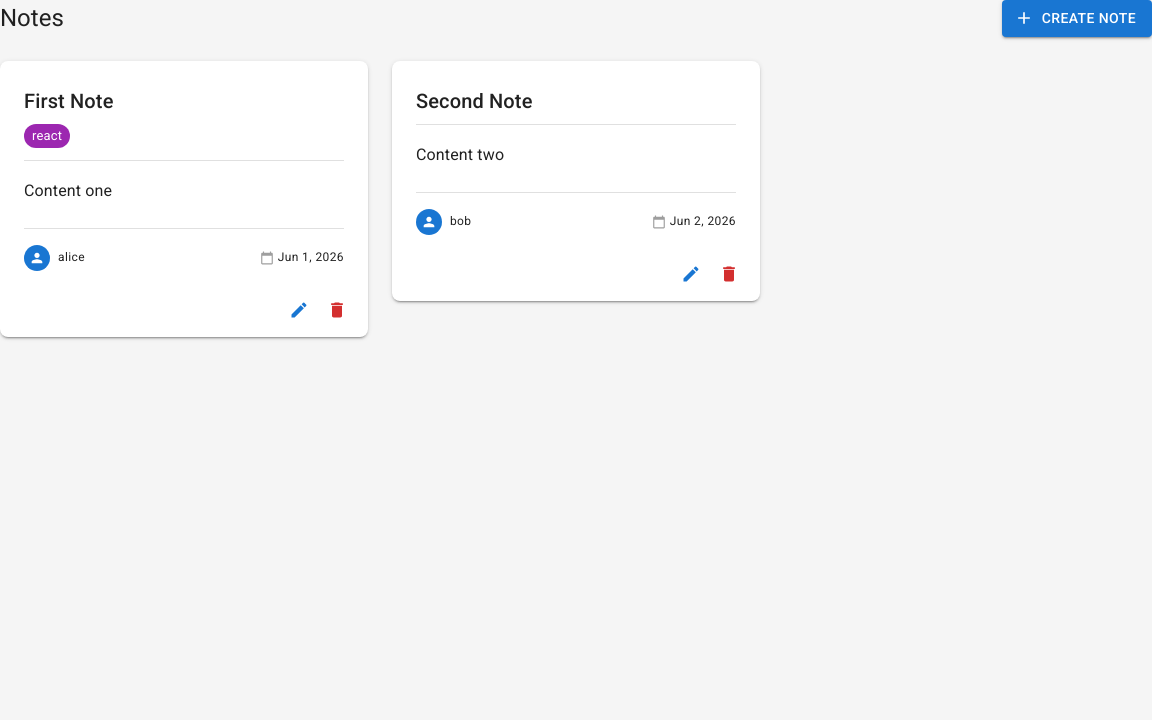
Test case: NoteCardGrid › opens the delete confirm dialog
The image size is (1152, 720).
Expected: the heading "First Note" is shown, x1=24 y1=88 x2=114 y2=112
Click the button named "Delete" below "alice".
click(337, 310)  # box x1=322 y1=295 x2=352 y2=325
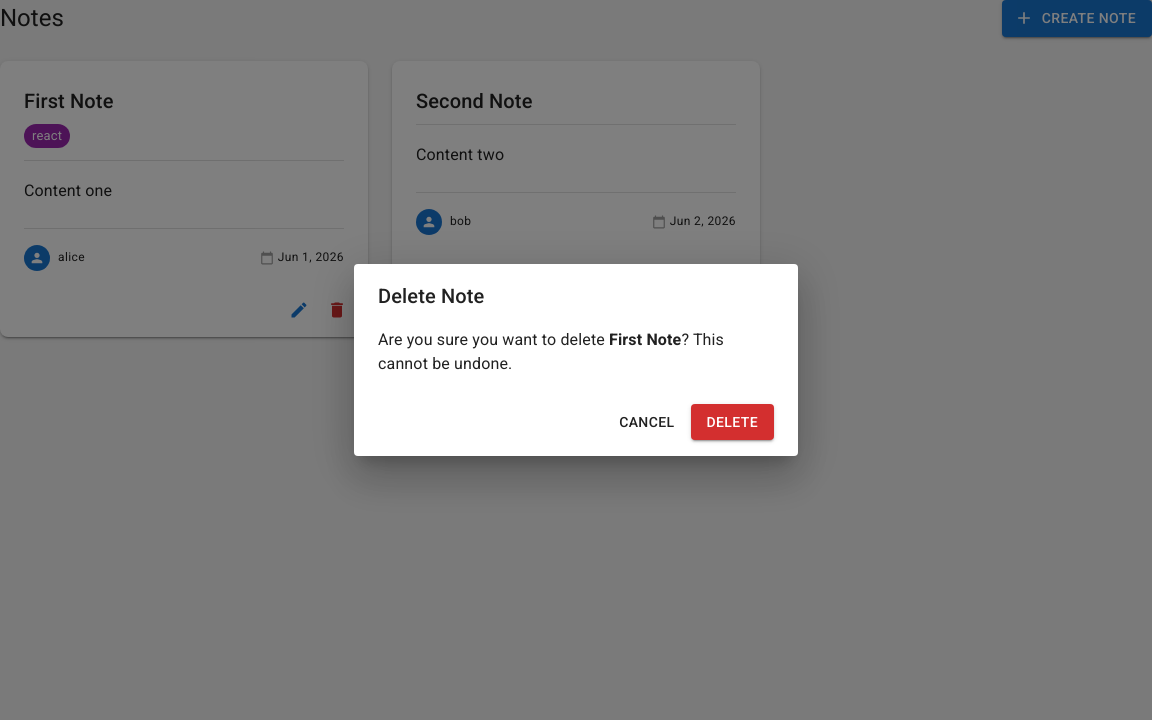
Expected: the text "Are you sure" is shown, x1=378 y1=330 x2=609 y2=349
Expected: the text "First Note" is shown, x1=609 y1=330 x2=681 y2=349
